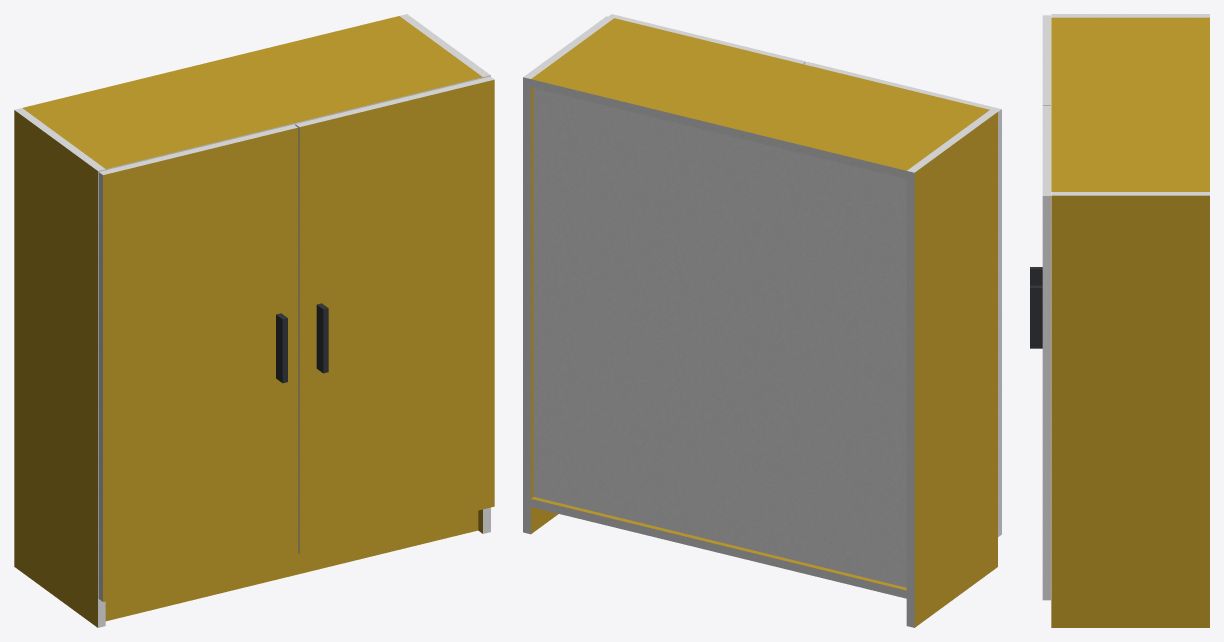
Rendered from FET-SHO-std.glb.
The picture shows the model from 3 angles, left to right: view 1: azimuth 30°, elevation 25°; view 2: azimuth 150°, elevation 25°; view 3: azimuth 270°, elevation 25°; orthographic projection. The views are drawn at different scales.
Visible parts, largest first — view 1: door-r:pbr, door-l:pbr, side-l:pbr, top:pbr, plinth:pbr, door-l:sheet:eyJtIjoibWRmIiwic2lkZSI6ImVkZ2UtbG9uZyIsInNlZWQ, pull, door-l:sheet:eyJtIjoibWRmIiwic2lkZSI6ImVkZ2UtZW5kIiwic2VlZCI, door-r:sheet:eyJtIjoibWRmIiwic2lkZSI6ImVkZ2UtZW5kIiwic2VlZCI, door-r:sheet:eyJtIjoibWRmIiwic2lkZSI6ImVkZ2UtbG9uZyIsInNlZWQ, side-l:sheet:eyJtIjoibWRmIiwic2lkZSI6ImVkZ2UtZW5kIiwic2VlZCI, side-r:sheet:eyJtIjoibWRmIiwic2lkZSI6ImVkZ2UtZW5kIiwic2VlZCI (+2 smaller); view 2: back:sheet:eyJtIjoibWRmIiwic2lkZSI6ImZhY2UiLCJzZWVkIjoxLCJ0a, side-l:pbr, top:pbr, side-l:sheet:eyJtIjoibWRmIiwic2lkZSI6ImVkZ2UtbG9uZyIsInNlZWQ, side-r:sheet:eyJtIjoibWRmIiwic2lkZSI6ImVkZ2UtbG9uZyIsInNlZWQ, top:sheet:eyJtIjoibWRmIiwic2lkZSI6ImVkZ2UtbG9uZyIsInNlZWQiOj, bottom:sheet:eyJtIjoibWRmIiwic2lkZSI6ImVkZ2UtbG9uZyIsInNlZWQ, door-l:sheet:eyJtIjoibWRmIiwic2lkZSI6ImVkZ2UtbG9uZyIsInNlZWQ, side-r:pbr, bottom:pbr, door-l:sheet:eyJtIjoibWRmIiwic2lkZSI6ImVkZ2UtZW5kIiwic2VlZCI, door-r:sheet:eyJtIjoibWRmIiwic2lkZSI6ImVkZ2UtZW5kIiwic2VlZCI (+2 smaller); view 3: side-r:pbr, top:pbr, door-r:sheet:eyJtIjoibWRmIiwic2lkZSI6ImVkZ2UtbG9uZyIsInNlZWQ, pull, door-l:sheet:eyJtIjoibWRmIiwic2lkZSI6ImVkZ2UtZW5kIiwic2VlZCI, door-r:sheet:eyJtIjoibWRmIiwic2lkZSI6ImVkZ2UtZW5kIiwic2VlZCI, side-l:sheet:eyJtIjoibWRmIiwic2lkZSI6ImVkZ2UtZW5kIiwic2VlZCI, side-r:sheet:eyJtIjoibWRmIiwic2lkZSI6ImVkZ2UtZW5kIiwic2VlZCI.
Part boxes in pixels (left/top/right/bottom): door-r:pbr: left=299, top=79, right=494, bottom=553; door-l:pbr: left=103, top=127, right=298, bottom=601; side-l:pbr: left=14, top=110, right=97, bottom=627; top:pbr: left=22, top=16, right=482, bottom=168; plinth:pbr: left=105, top=510, right=478, bottom=621; door-l:sheet:eyJtIjoibWRmIiwic2lkZSI6ImVkZ2UtbG9uZyIsInNlZWQ: left=98, top=172, right=102, bottom=601; pull: left=276, top=303, right=328, bottom=383; door-l:sheet:eyJtIjoibWRmIiwic2lkZSI6ImVkZ2UtZW5kIiwic2VlZCI: left=99, top=124, right=297, bottom=174; door-r:sheet:eyJtIjoibWRmIiwic2lkZSI6ImVkZ2UtZW5kIiwic2VlZCI: left=295, top=76, right=494, bottom=127; door-r:sheet:eyJtIjoibWRmIiwic2lkZSI6ImVkZ2UtbG9uZyIsInNlZWQ: left=295, top=124, right=299, bottom=553; side-l:sheet:eyJtIjoibWRmIiwic2lkZSI6ImVkZ2UtZW5kIiwic2VlZCI: left=14, top=108, right=105, bottom=170; side-r:sheet:eyJtIjoibWRmIiwic2lkZSI6ImVkZ2UtZW5kIiwic2VlZCI: left=400, top=14, right=490, bottom=76; back:sheet:eyJtIjoibWRmIiwic2lkZSI6ImZhY2UiLCJzZWVkIjoxLCJ0a: left=533, top=88, right=906, bottom=587; side-l:pbr: left=914, top=112, right=997, bottom=627; top:pbr: left=531, top=18, right=989, bottom=170; side-l:sheet:eyJtIjoibWRmIiwic2lkZSI6ImVkZ2UtbG9uZyIsInNlZWQ: left=906, top=171, right=914, bottom=627; side-r:sheet:eyJtIjoibWRmIiwic2lkZSI6ImVkZ2UtbG9uZyIsInNlZWQ: left=523, top=77, right=530, bottom=534; top:sheet:eyJtIjoibWRmIiwic2lkZSI6ImVkZ2UtbG9uZyIsInNlZWQiOj: left=531, top=79, right=906, bottom=178; bottom:sheet:eyJtIjoibWRmIiwic2lkZSI6ImVkZ2UtbG9uZyIsInNlZWQ: left=531, top=499, right=906, bottom=598; door-l:sheet:eyJtIjoibWRmIiwic2lkZSI6ImVkZ2UtbG9uZyIsInNlZWQ: left=998, top=109, right=1001, bottom=536; side-r:pbr: left=531, top=87, right=558, bottom=533; bottom:pbr: left=531, top=497, right=906, bottom=590; door-l:sheet:eyJtIjoibWRmIiwic2lkZSI6ImVkZ2UtZW5kIiwic2VlZCI: left=804, top=62, right=1001, bottom=111; door-r:sheet:eyJtIjoibWRmIiwic2lkZSI6ImVkZ2UtZW5kIiwic2VlZCI: left=608, top=14, right=805, bottom=63; side-r:pbr: left=1051, top=195, right=1209, bottom=627; top:pbr: left=1051, top=17, right=1209, bottom=191; door-r:sheet:eyJtIjoibWRmIiwic2lkZSI6ImVkZ2UtbG9uZyIsInNlZWQ: left=1042, top=196, right=1050, bottom=600; pull: left=1030, top=267, right=1042, bottom=348; door-l:sheet:eyJtIjoibWRmIiwic2lkZSI6ImVkZ2UtZW5kIiwic2VlZCI: left=1042, top=15, right=1050, bottom=105; door-r:sheet:eyJtIjoibWRmIiwic2lkZSI6ImVkZ2UtZW5kIiwic2VlZCI: left=1042, top=106, right=1050, bottom=195; side-l:sheet:eyJtIjoibWRmIiwic2lkZSI6ImVkZ2UtZW5kIiwic2VlZCI: left=1051, top=14, right=1209, bottom=17; side-r:sheet:eyJtIjoibWRmIiwic2lkZSI6ImVkZ2UtZW5kIiwic2VlZCI: left=1051, top=192, right=1209, bottom=195.
Size of the model in its own units: 0.9 by 1 by 0.3766.
Materials: 34 (23 with a texture image).
